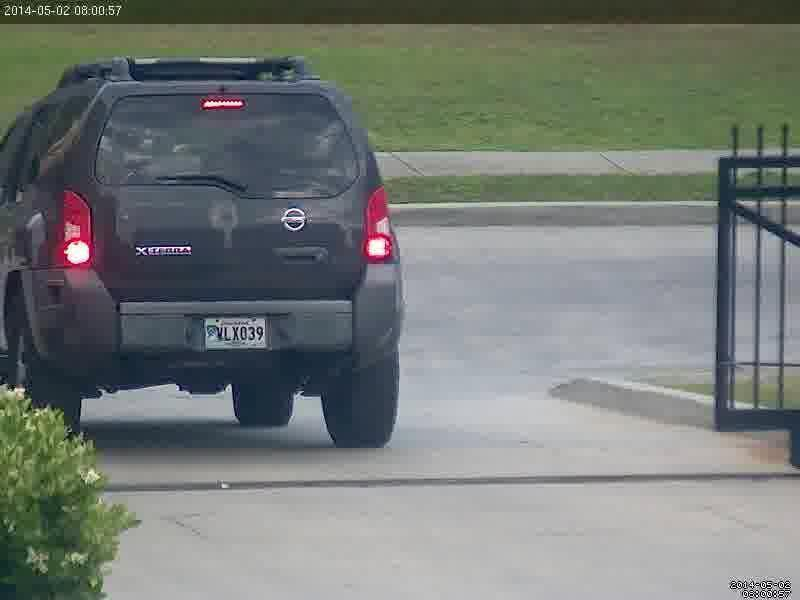placa de veiculo: (190, 301, 284, 358)
